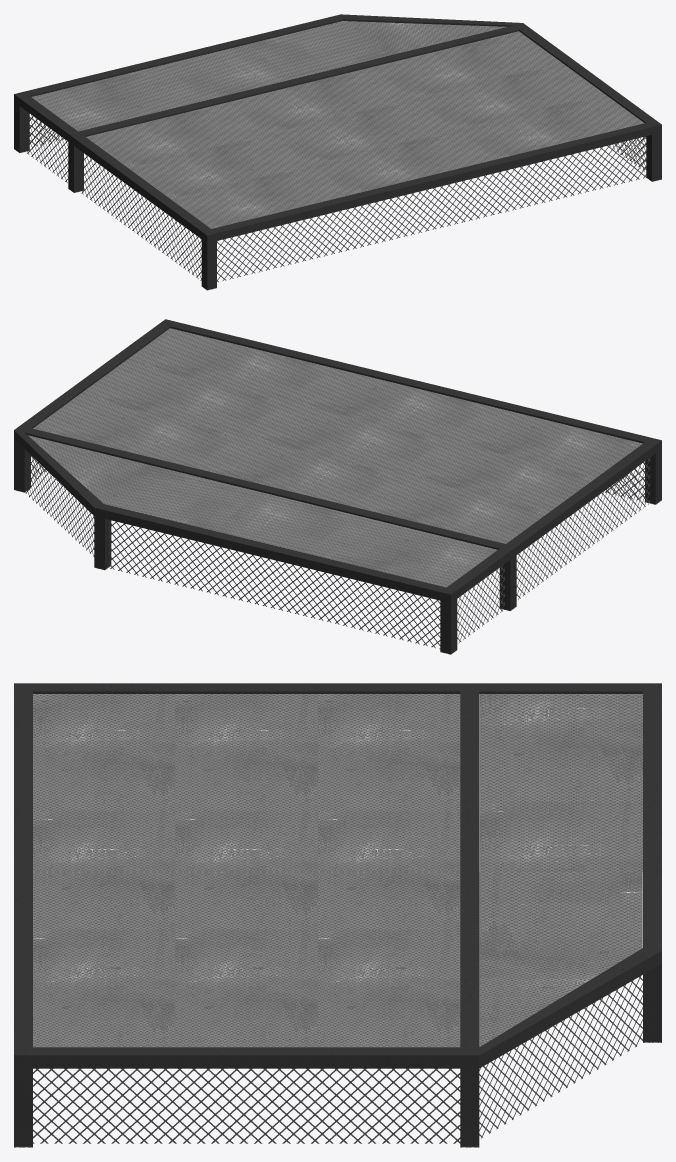
File: Platform_L.fbx
3 renders of one model, top to bottom at view 1: azimuth 30°, elevation 25°; view 2: azimuth 150°, elevation 25°; view 3: azimuth 270°, elevation 25°, orthographic. The views are drawn at different scales.
Visible parts, largest first — view 1: Platform; view 2: Platform; view 3: Platform.
Boxes of the visible parts, box(x1,y1,x2,y2) form: Platform: box(14, 14, 661, 290); Platform: box(14, 319, 661, 654); Platform: box(14, 683, 661, 1147).
Size of the model in its own units: 15.76 by 1.82 by 11.59.
